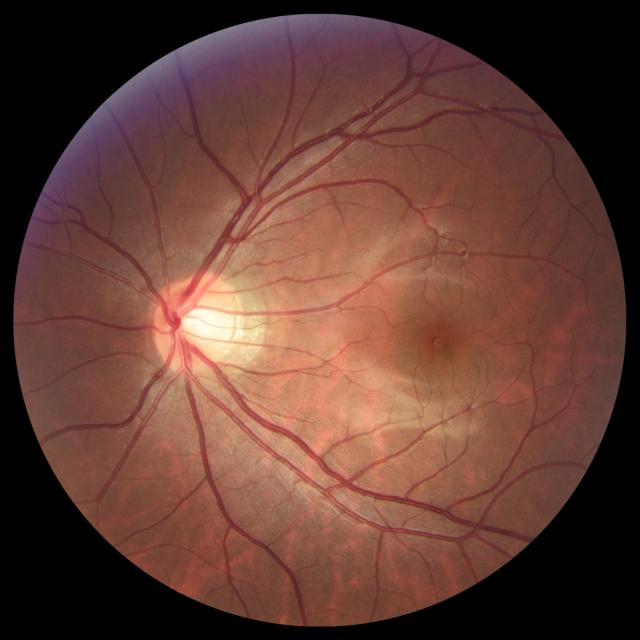OC: (172, 296, 222, 346)
OD: (152, 275, 242, 374)
